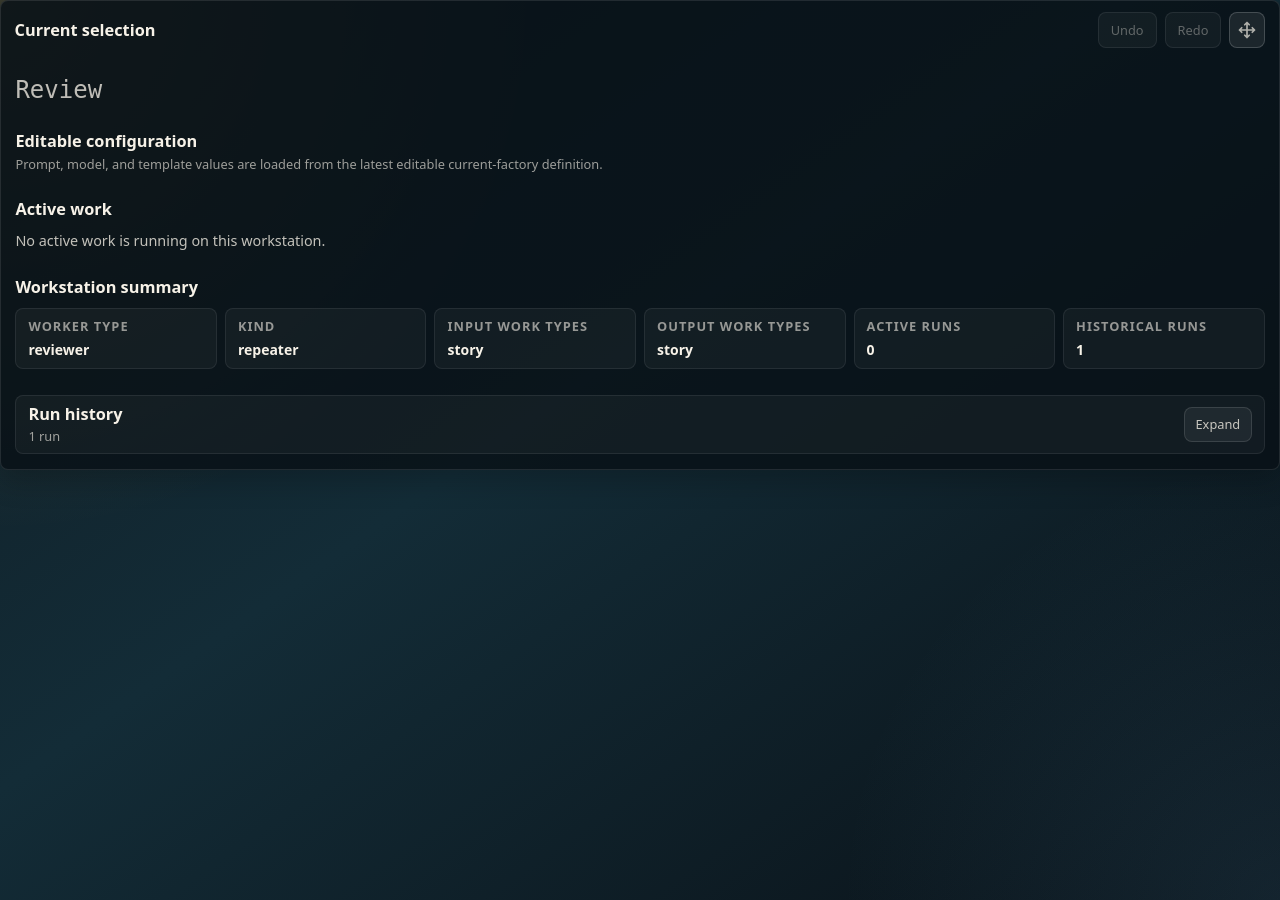
WorkstationDetailCard › renders repeater rejected history as repeated work while preserving the raw outcome
Click the button "Expand": (1218, 424) [1184,407,1252,442]
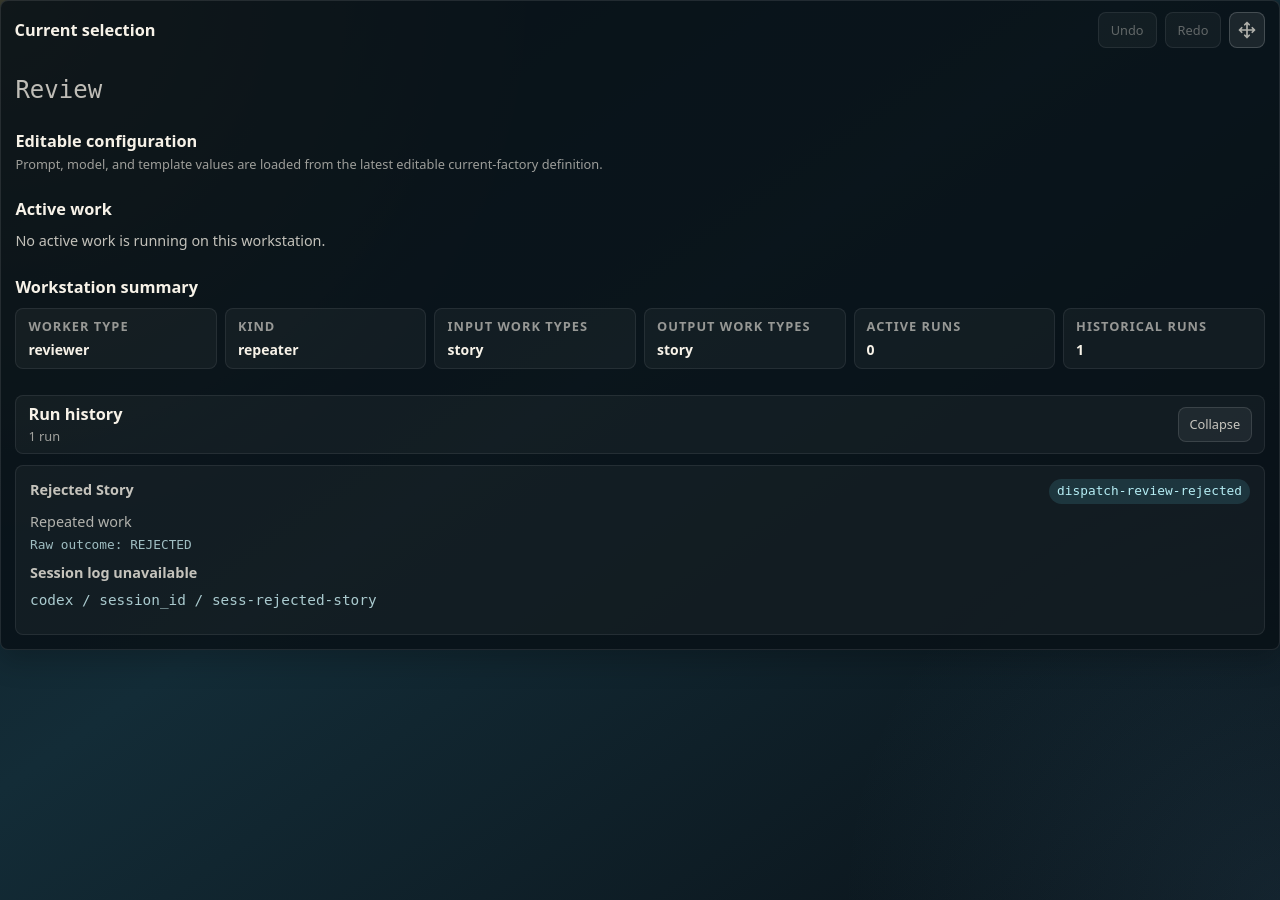
Result: the text "Repeated work" is shown at [30,511,132,533]
Result: the text "Raw outcome: REJECTED" is shown at [30,537,192,552]
